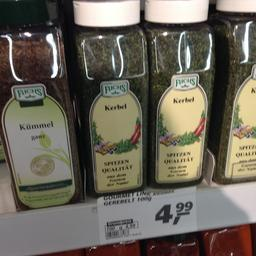spices: (0, 1, 81, 208), (71, 0, 145, 195), (143, 0, 218, 186)
